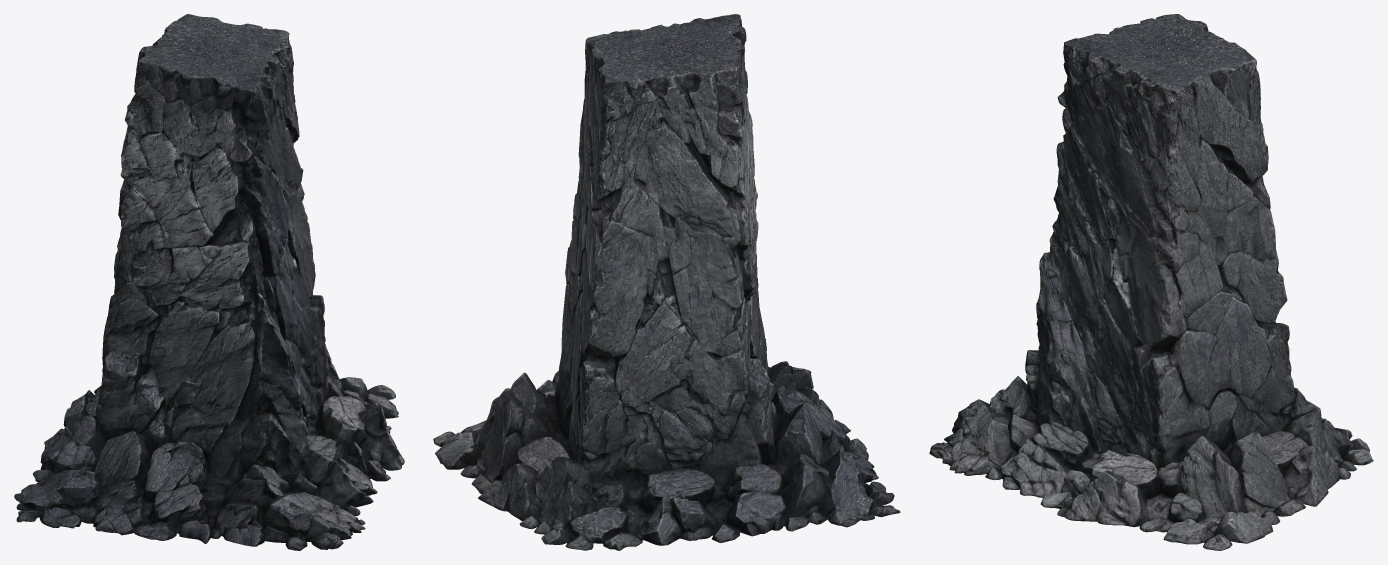
Rendered from monolith.glb.
The picture shows the model from 3 angles, left to right: view 1: azimuth 30°, elevation 25°; view 2: azimuth 150°, elevation 25°; view 3: azimuth 270°, elevation 25°; orthographic projection. The views are drawn at different scales.
Parts seen in each view (by area): view 1: monolith; view 2: monolith; view 3: monolith.
Boxes of the visible parts, x1,y1,x2,y2 form: monolith: (14,14,404,550); monolith: (433,14,900,550); monolith: (929,14,1373,550).
Size of the model in its own units: 0.9806 by 0.934 by 0.9238.
1 material, 1 textured.
